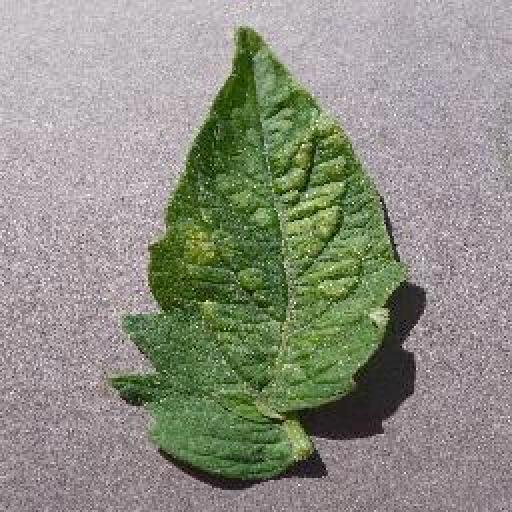disease_tomato: (106, 24, 412, 482)
